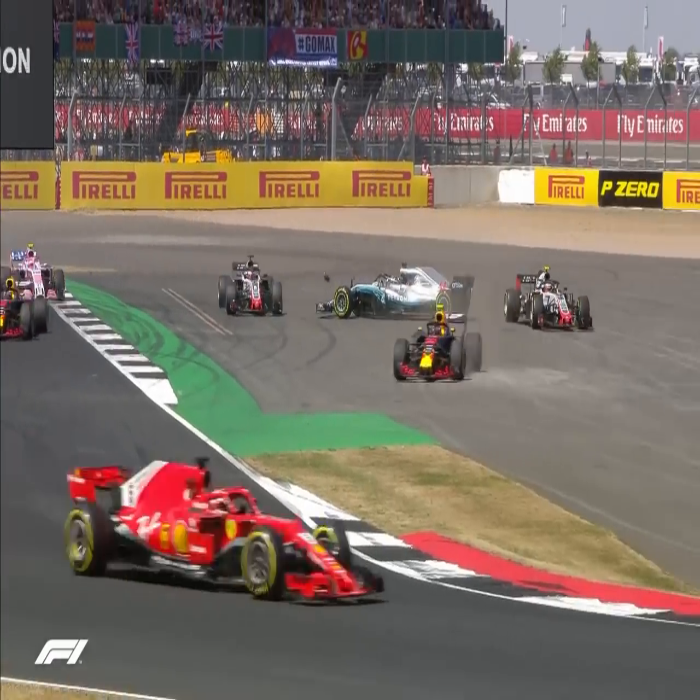f1_car: (42, 447, 406, 614), (313, 251, 485, 325), (381, 304, 485, 390), (498, 254, 599, 342), (204, 255, 289, 329), (8, 243, 73, 304)
